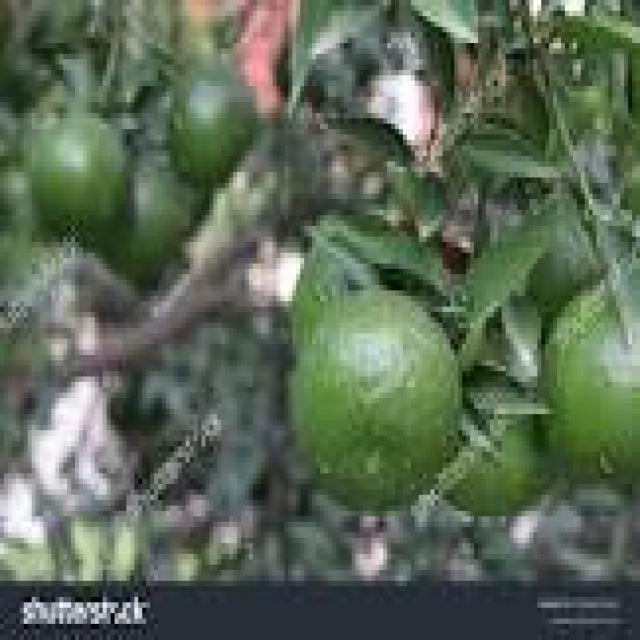orange: (292, 290, 458, 506), (545, 285, 636, 479), (28, 108, 122, 242), (435, 414, 549, 511), (170, 65, 257, 183), (119, 161, 186, 280)
